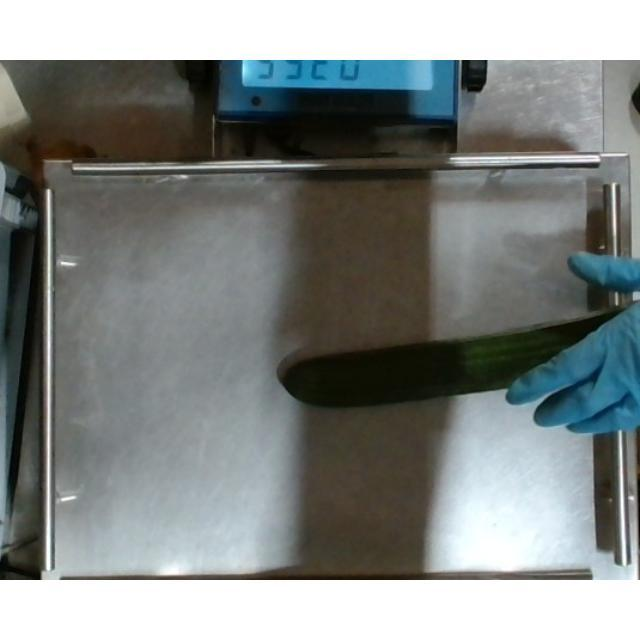cucumber: (276, 306, 640, 408)
